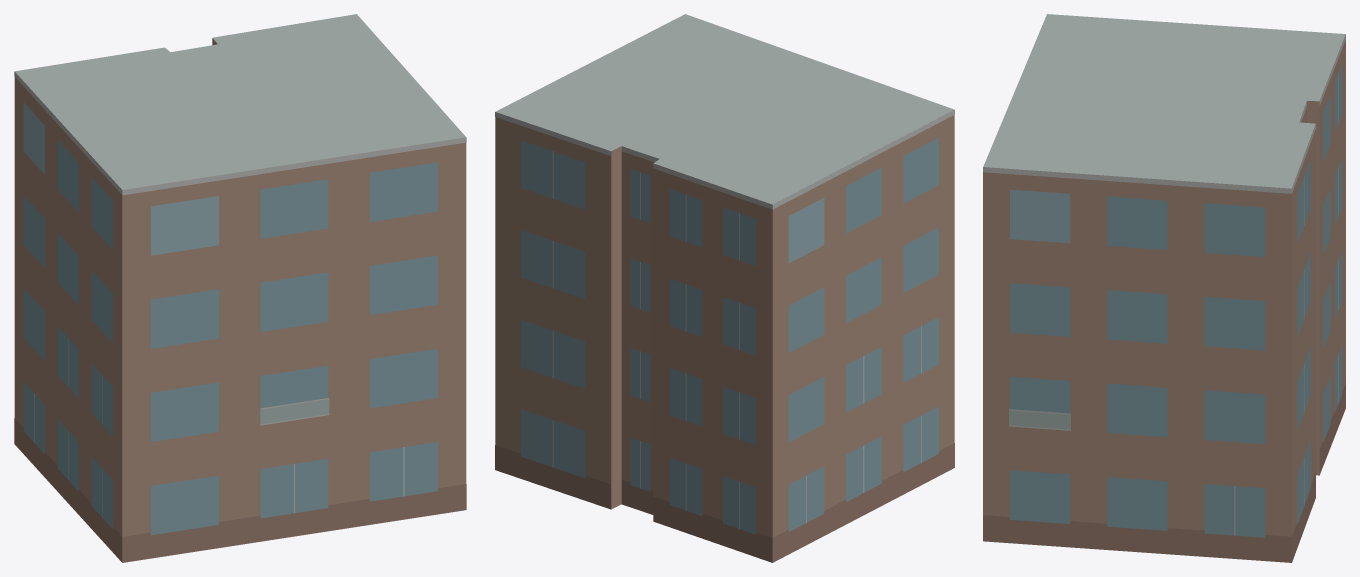
The model's file is survey-upis-32779504.glb.
3 renders of one model, left to right at view 1: azimuth 30°, elevation 25°; view 2: azimuth 150°, elevation 25°; view 3: azimuth 270°, elevation 25°, orthographic. The views are drawn at different scales.
Visible parts, largest first — view 1: survey-upis-32779504.tmp; view 2: survey-upis-32779504.tmp; view 3: survey-upis-32779504.tmp.
Boxes of the visible parts, x1,y1,x2,y2 form: survey-upis-32779504.tmp: [14, 14, 466, 562]; survey-upis-32779504.tmp: [495, 14, 954, 562]; survey-upis-32779504.tmp: [983, 14, 1345, 562].
Bounding box in the file's own units: 17.33 × 17.31 × 15.21.
